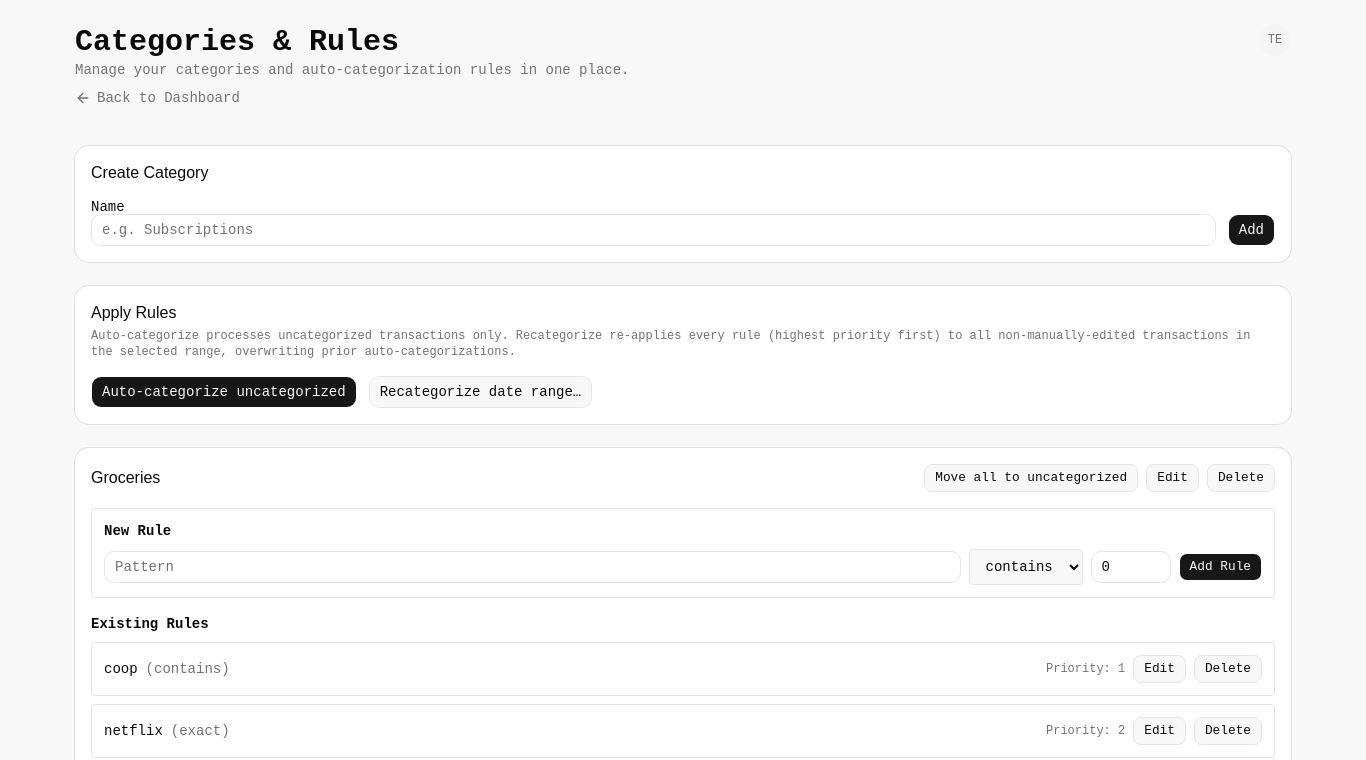
Test: CategoriesPage › shows matching transactions from live preview
Expected: the heading "Groceries" is shown, 91,466 -> 160,490
In the field named "New rule pattern for Groceries": (532, 567) 104,551 -> 961,583, type "co"
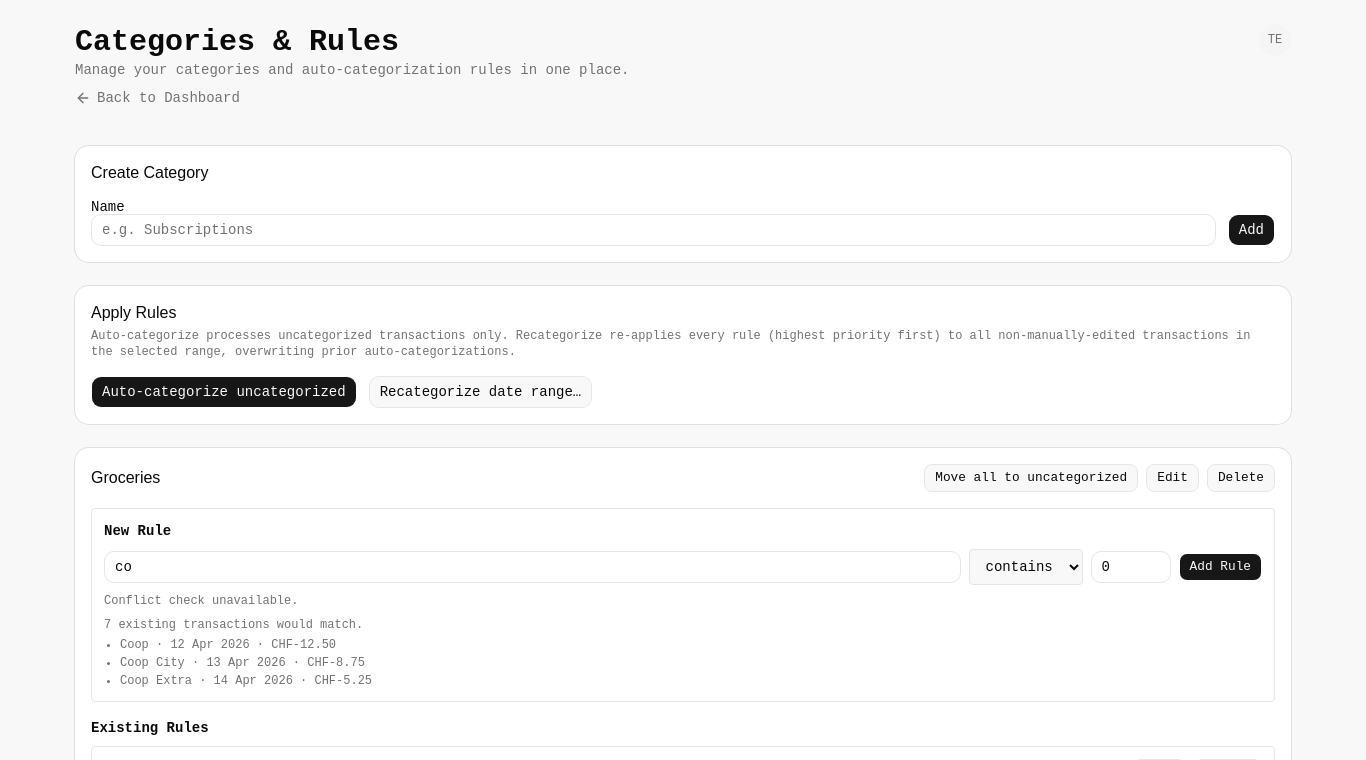
Now the text "7 existing transactions would match." is shown, box 104,618 -> 363,632
Now the list item "Coop · 12 Apr 2026 · CHF-12.50" is shown, box 120,638 -> 336,652
Now the list item "Coop City · 13 Apr 2026 · CHF-8.75" is shown, box 120,656 -> 365,670
